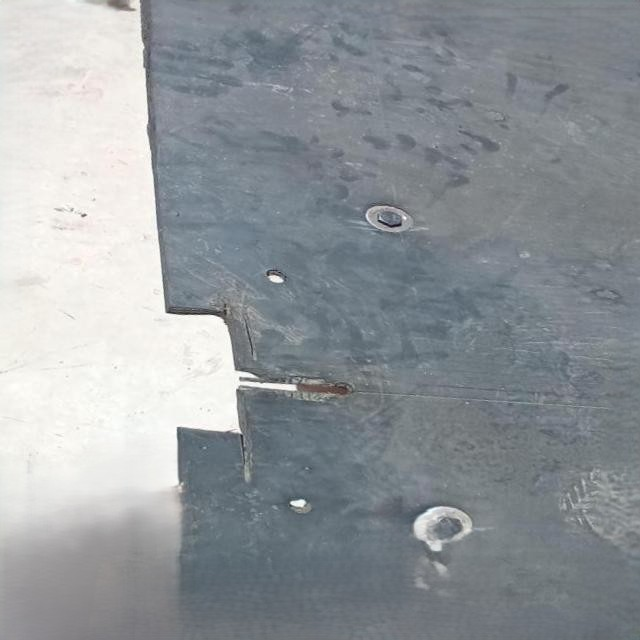Hole: (283, 493, 315, 517), (262, 262, 289, 289)
Tear: (164, 300, 353, 476), (238, 310, 264, 362)
